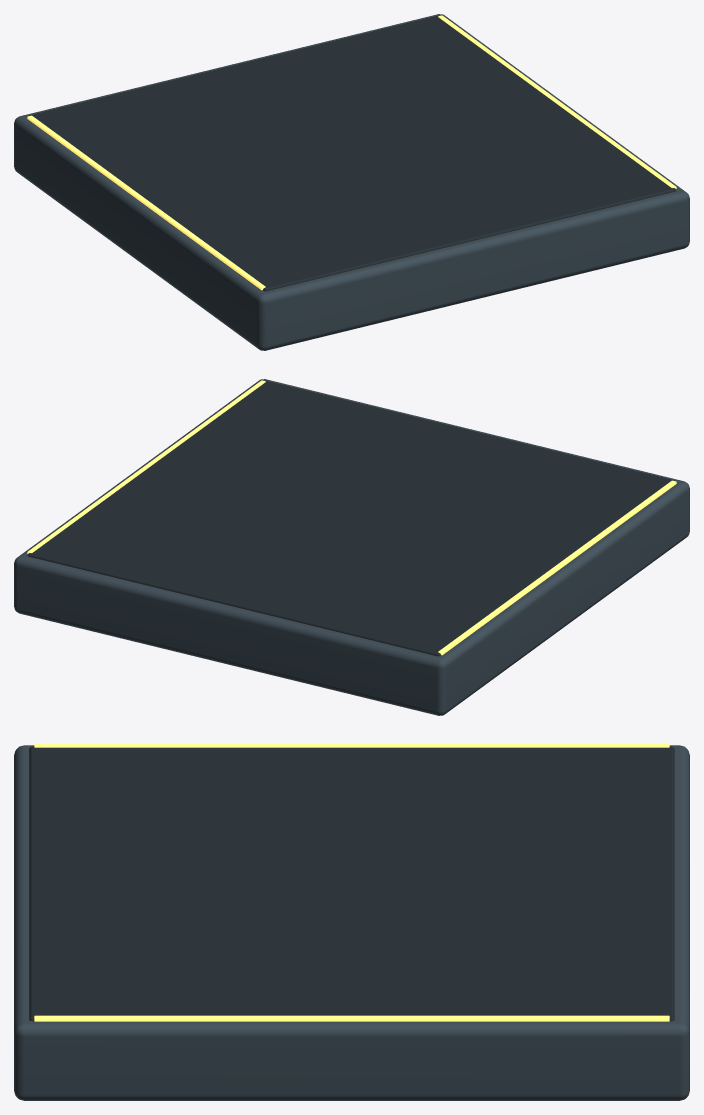
The model's file is floor.glb.
3 renders of one model, top to bottom at view 1: azimuth 30°, elevation 25°; view 2: azimuth 150°, elevation 25°; view 3: azimuth 270°, elevation 25°, orthographic. The views are drawn at different scales.
Parts seen in each view (by area): view 1: floor; view 2: floor; view 3: floor.
Part boxes in pixels (box(x1,y1,x2,y2)): floor: box(14, 14, 689, 350); floor: box(14, 379, 689, 715); floor: box(14, 744, 689, 1100).
Bounding box in the file's own units: 4 × 0.524 × 4.
